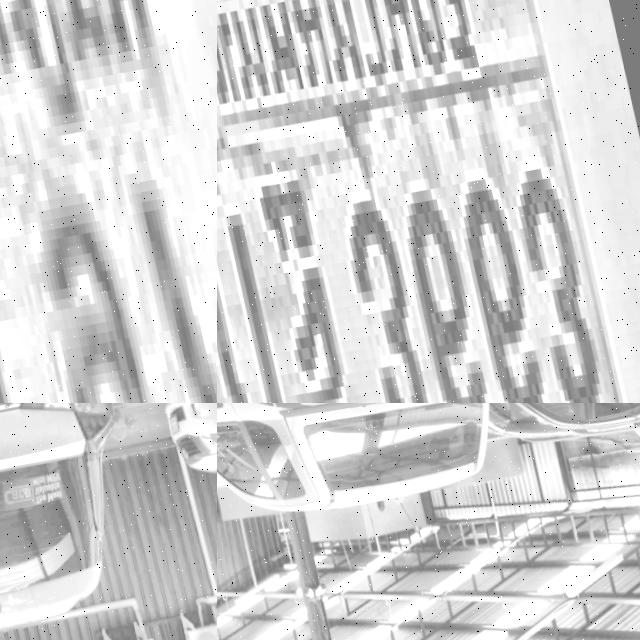license-plate: (217, 0, 640, 403), (0, 0, 217, 403), (165, 410, 179, 437)
